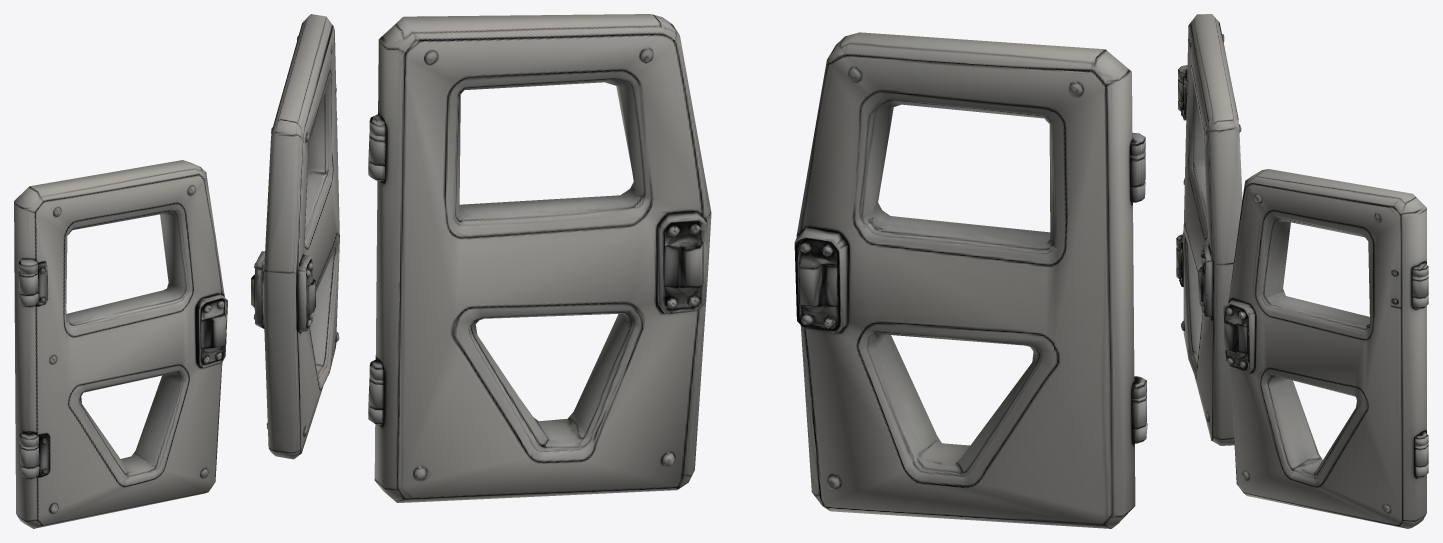
Rendered from bunker-lightweight_body.glb.
3 views of the same model, side by side, from view 1: azimuth 30°, elevation 25°; view 2: azimuth 150°, elevation 25°; view 3: azimuth 270°, elevation 25° (orthographic). The views are drawn at different scales.
Parts seen in each view (by area): view 1: tripo_node_e4e4725e-48d6-4e81-995a-7141f1ace315; view 2: tripo_node_e4e4725e-48d6-4e81-995a-7141f1ace315; view 3: tripo_node_e4e4725e-48d6-4e81-995a-7141f1ace315.
Boxes of the visible parts, x1,y1,x2,y2 form: tripo_node_e4e4725e-48d6-4e81-995a-7141f1ace315: [14, 14, 339, 528]; tripo_node_e4e4725e-48d6-4e81-995a-7141f1ace315: [368, 14, 1147, 528]; tripo_node_e4e4725e-48d6-4e81-995a-7141f1ace315: [1176, 14, 1428, 528].
Size of the model in its own units: 1.05 by 0.8404 by 0.5486.
1 material, 1 textured.
